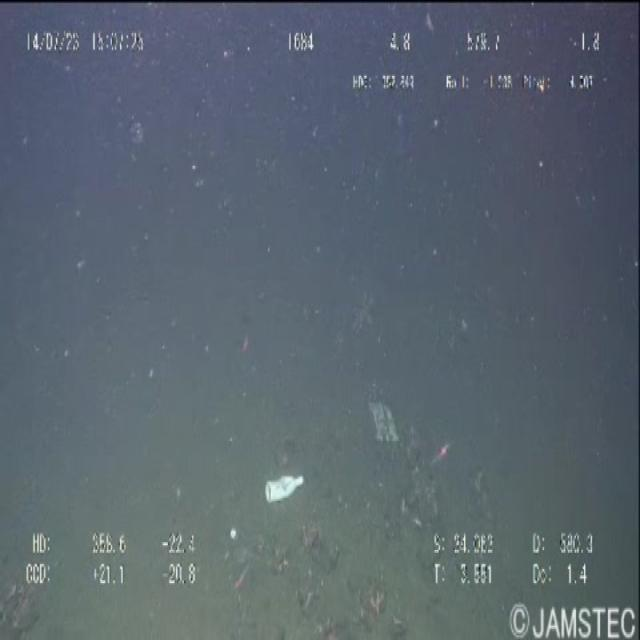Glass: (262, 457, 315, 523)
Litter: (363, 384, 413, 462)
